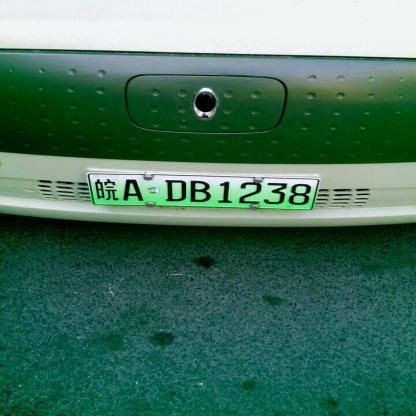lp: (87, 174, 317, 209)
